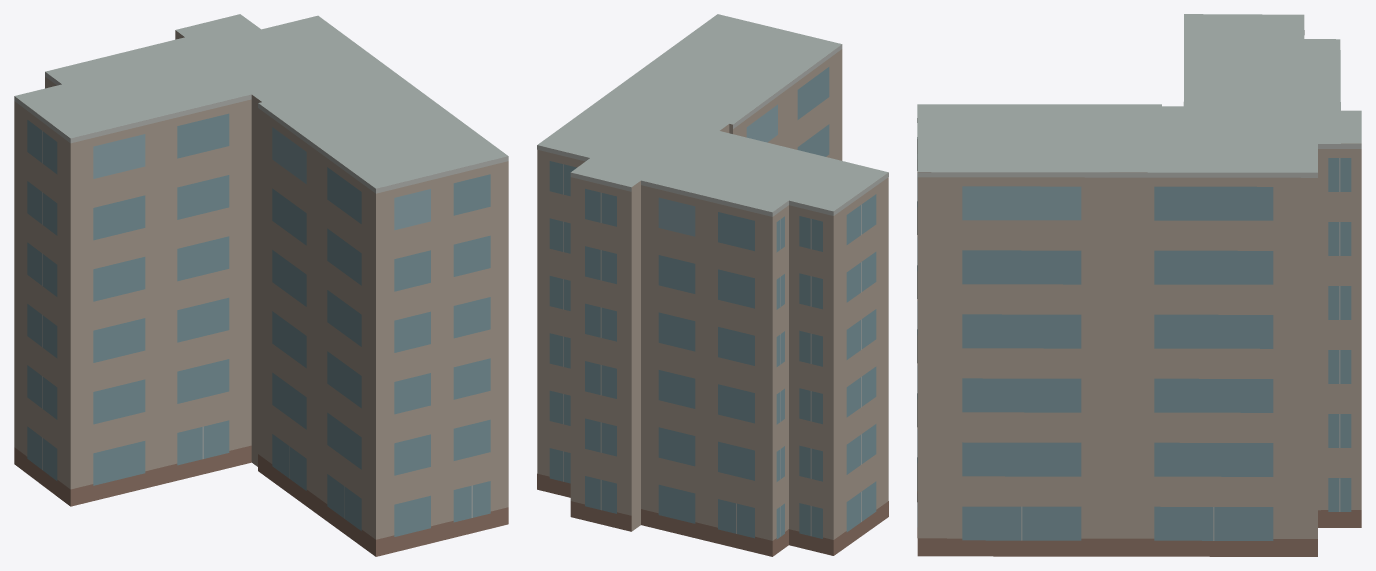
Rendered from survey-upis-32915929.glb.
The picture shows the model from 3 angles, left to right: view 1: azimuth 30°, elevation 25°; view 2: azimuth 150°, elevation 25°; view 3: azimuth 270°, elevation 25°; orthographic projection. The views are drawn at different scales.
Visible parts, largest first — view 1: survey-upis-32915929.tmp; view 2: survey-upis-32915929.tmp; view 3: survey-upis-32915929.tmp.
Part boxes in pixels (x1,y1,x2,y2): survey-upis-32915929.tmp: (14,14,508,556); survey-upis-32915929.tmp: (537,14,888,556); survey-upis-32915929.tmp: (917,14,1361,556).
Size of the model in its own units: 16.22 by 18.3 by 19.21.
